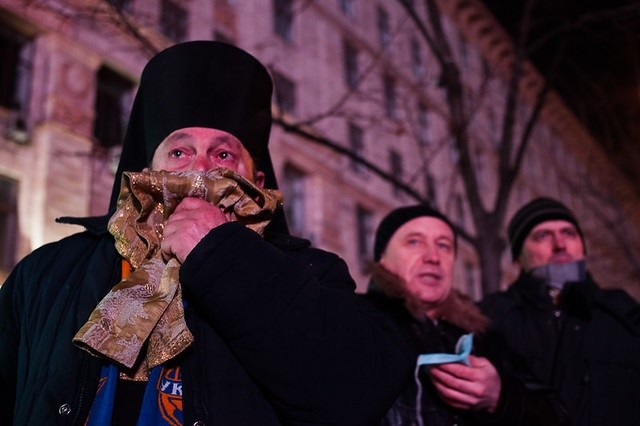face_no_mask: (377, 206, 461, 307)
